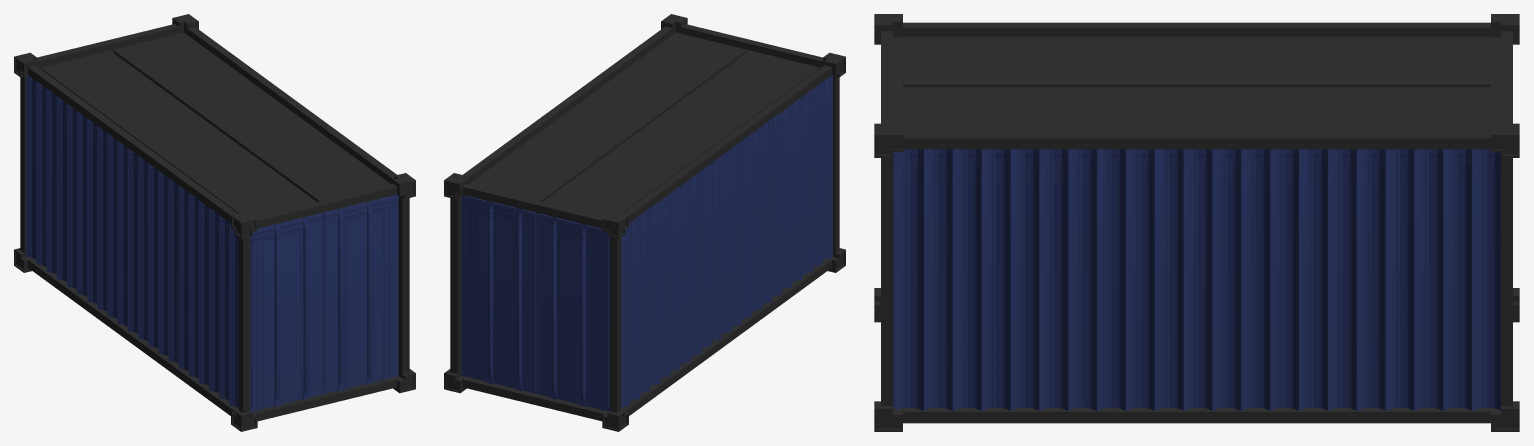
The model's file is container.fbx.
3 views of the same model, side by side, from view 1: azimuth 30°, elevation 25°; view 2: azimuth 150°, elevation 25°; view 3: azimuth 270°, elevation 25° (orthographic). The views are drawn at different scales.
Parts seen in each view (by area): view 1: Plane.004, Plane.001; view 2: Plane.004, Plane.001; view 3: Plane.004, Plane.001.
Part boxes in pixels (x1,y1,x2,y2): Plane.004: (26,75,398,411); Plane.001: (14,14,415,431); Plane.004: (461,75,832,411); Plane.001: (444,14,845,431); Plane.004: (893,149,1500,410); Plane.001: (874,14,1519,431).
Bounding box in the file's own units: 276 × 315 × 621.
